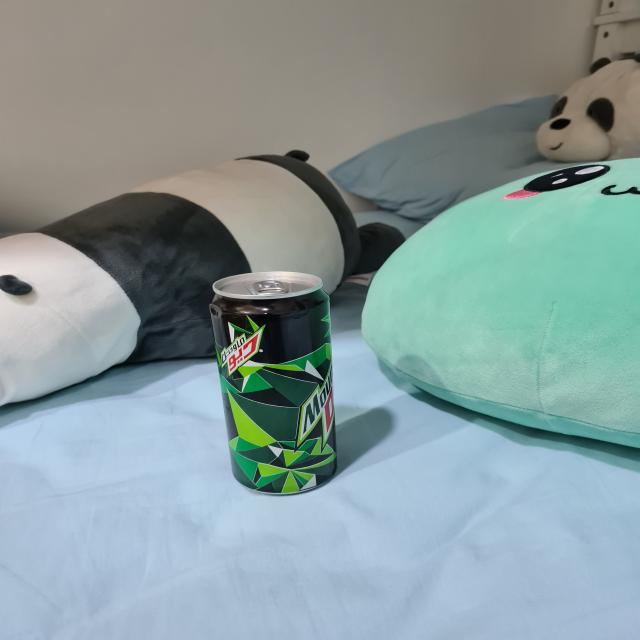non-organic waste: (208, 269, 338, 498)
